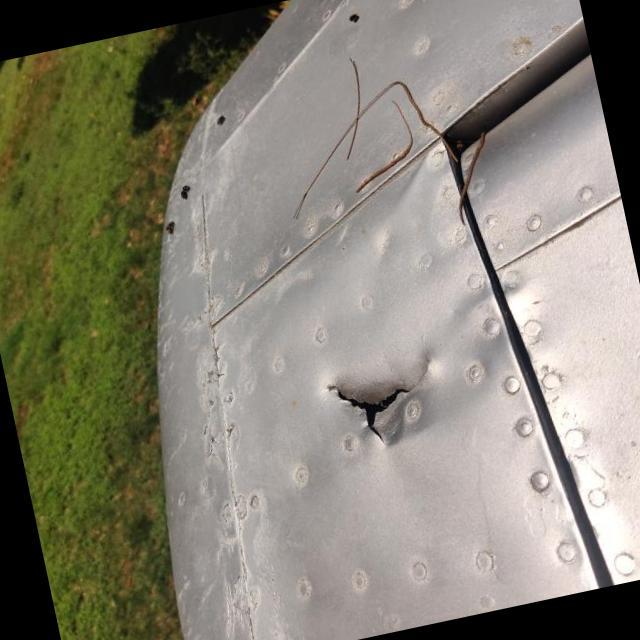Rupture: (312, 332, 459, 472)
